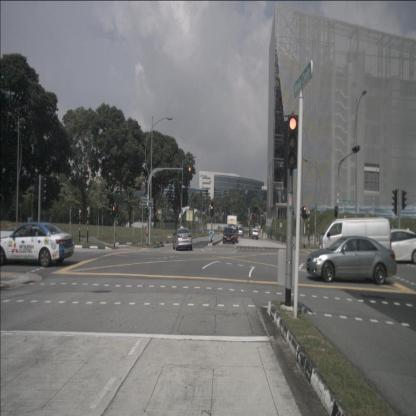vehicle-car: (305, 236, 397, 284), (318, 217, 392, 271), (0, 221, 74, 268), (376, 229, 416, 265), (173, 228, 192, 250), (223, 228, 234, 244), (228, 228, 238, 243), (252, 229, 258, 240), (238, 227, 244, 237), (249, 225, 255, 234)
vehicle-truck: (227, 215, 237, 236)
